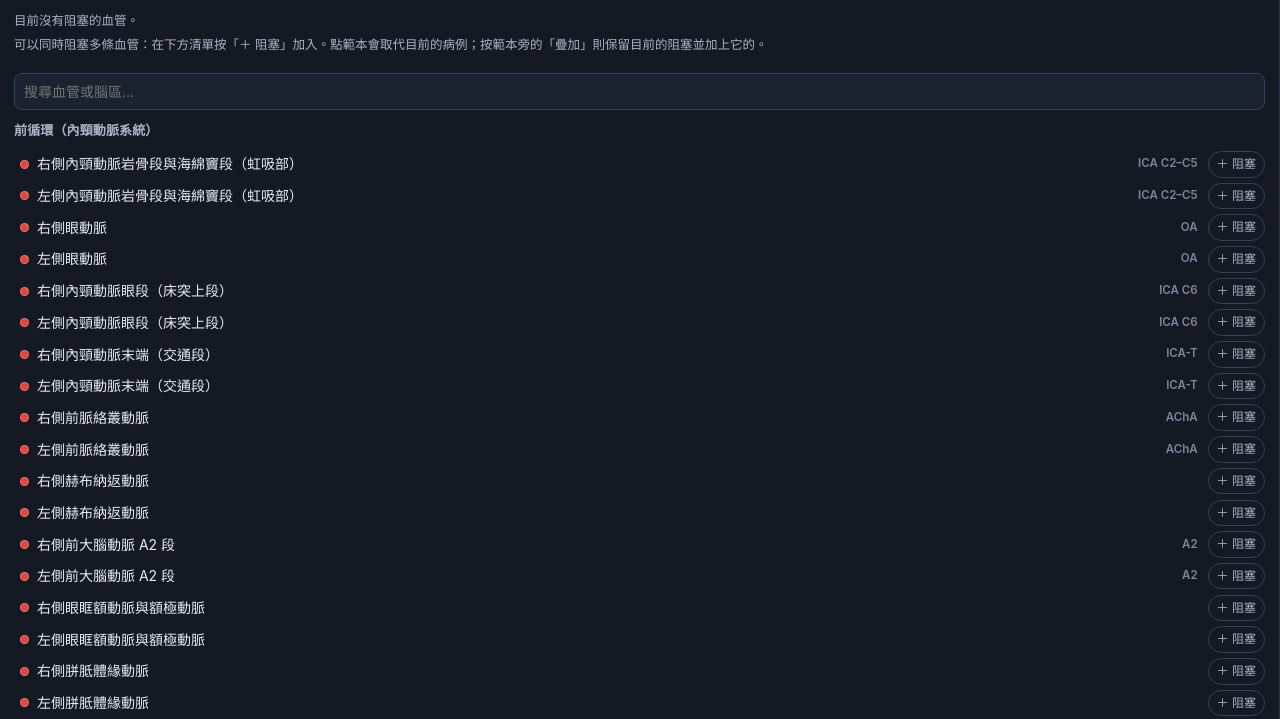
Test: vessel search with no match › shows a "no vessels match" message with a clear button, and restores the list on clear
Type "zzzxxy" into the search field at coordinates (640, 91), box top-left (14, 73), bottom-right (1265, 110)
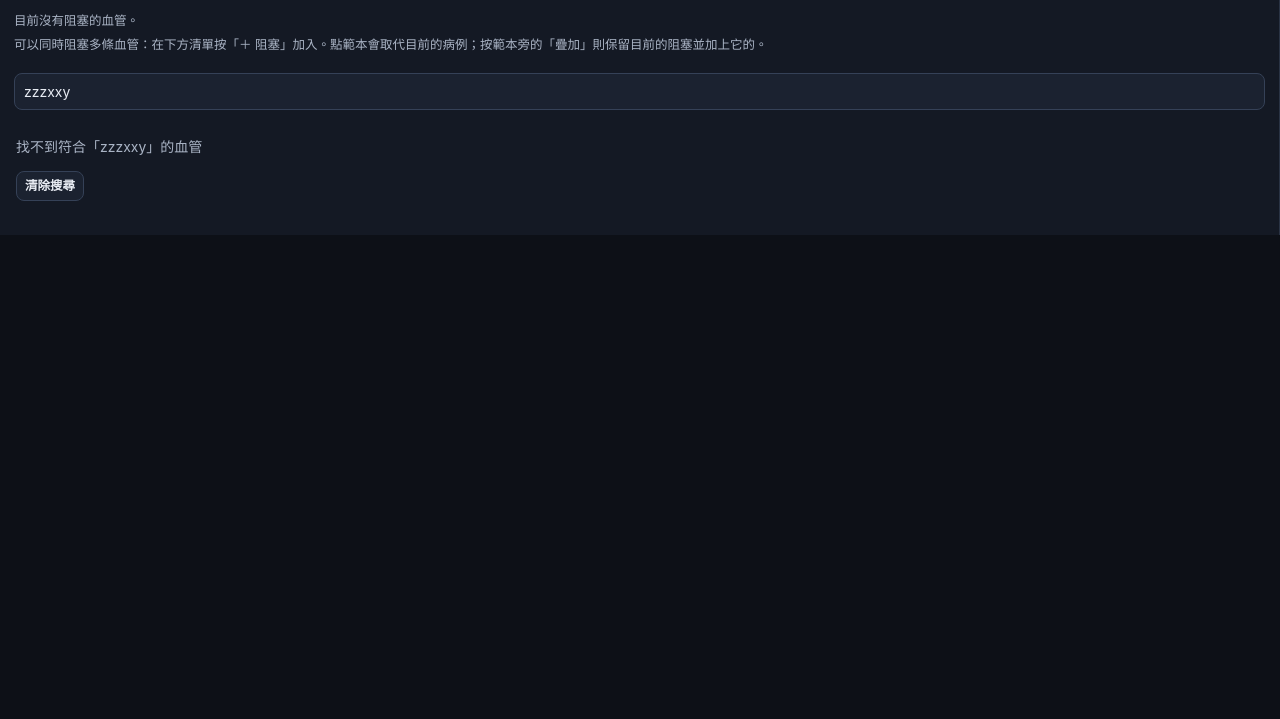
expect the text "Willis 環" is not shown: met
expect the text "找不到符合「zzzxxy」的血管" is shown: met, box top-left (16, 136), bottom-right (202, 158)
Click the button "清除搜尋" at coordinates (50, 186), box top-left (16, 171), bottom-right (84, 200)
(page scrolled)
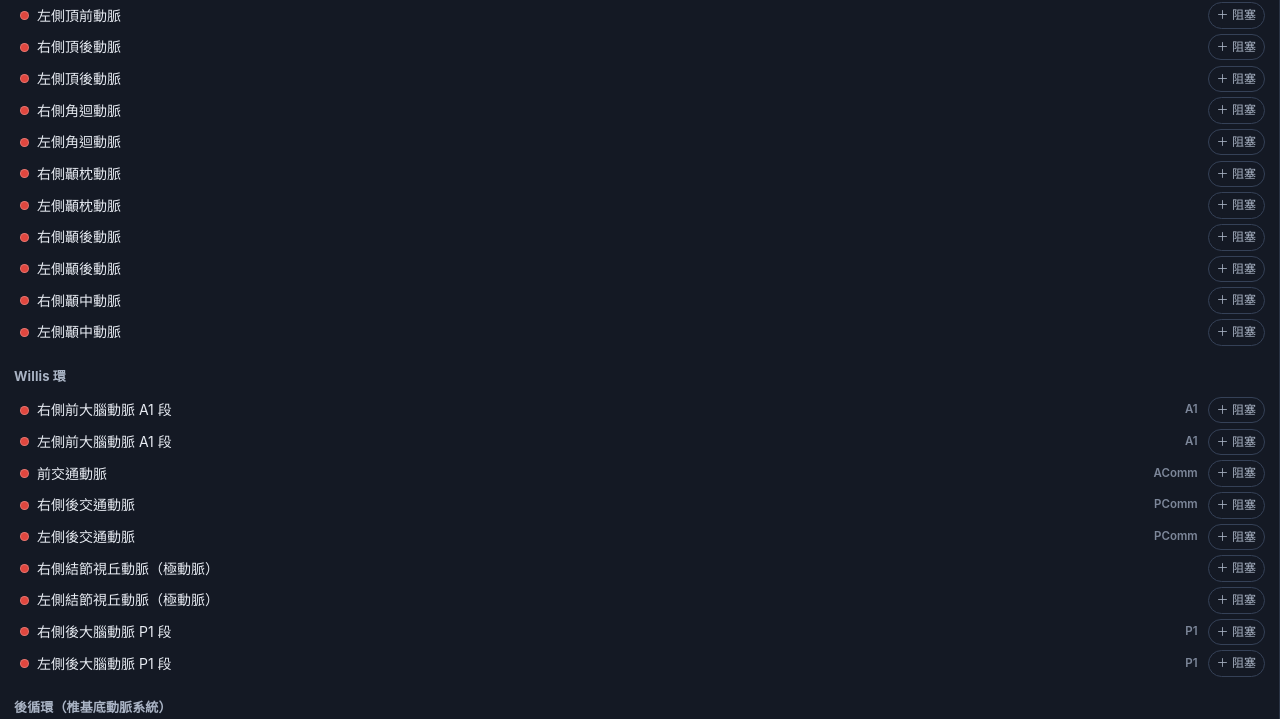
expect the text "找不到符合「zzzxxy」的血管" is gone: met
expect the heading "Willis 環" is shown: met, box top-left (14, 368), bottom-right (66, 384)
